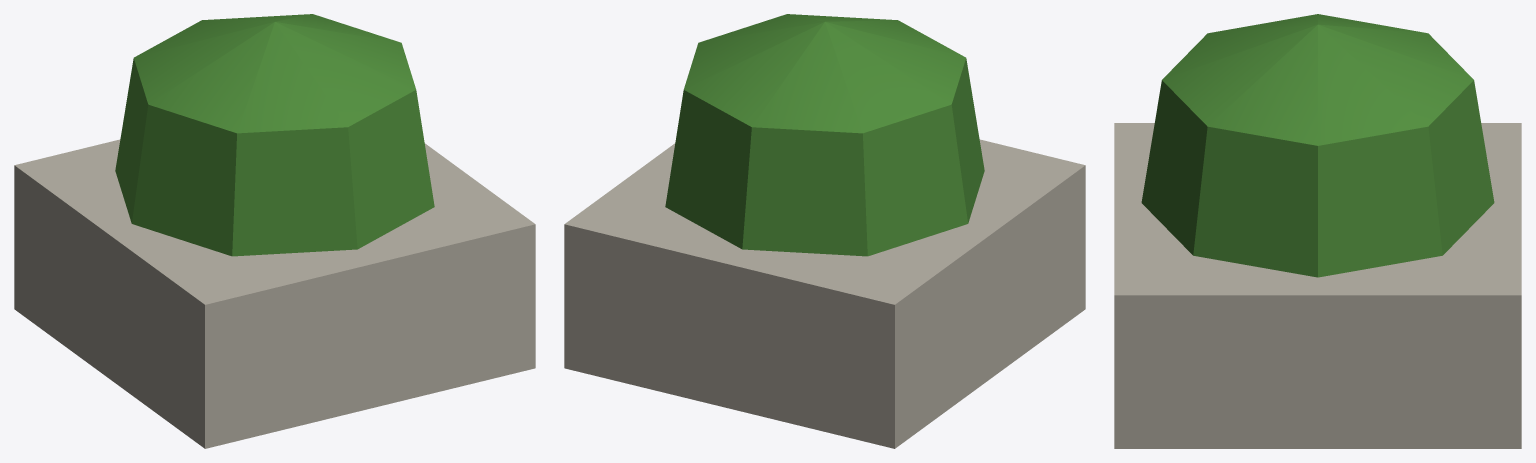
The model's file is env_planter.obj.
The picture shows the model from 3 angles, left to right: view 1: azimuth 30°, elevation 25°; view 2: azimuth 150°, elevation 25°; view 3: azimuth 270°, elevation 25°; orthographic projection. The views are drawn at different scales.
Visible parts, largest first — view 1: Planter; view 2: Planter; view 3: Planter.
Part boxes in pixels (x1,y1,x2,y2): Planter: (14,14,535,448); Planter: (564,14,1085,448); Planter: (1114,14,1521,448).
Size of the model in its own units: 1.2 by 1.1 by 1.2.
